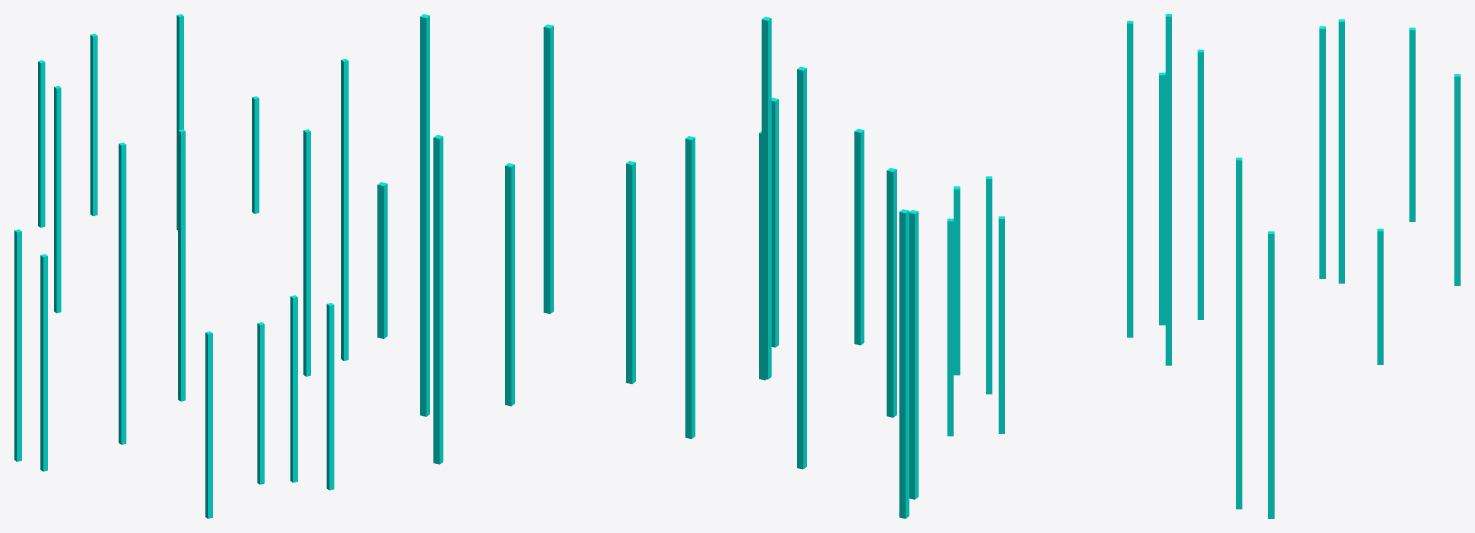
The model's file is IceBerries-1.obj.
3 views of the same model, side by side, from view 1: azimuth 30°, elevation 25°; view 2: azimuth 150°, elevation 25°; view 3: azimuth 270°, elevation 25° (orthographic). The views are drawn at different scales.
Bounding box in the file's own units: 7.3 × 7.4 × 8.
1 material, 1 textured.
